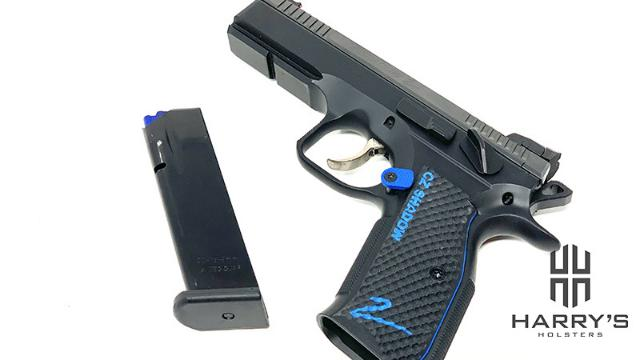handgun: (224, 0, 576, 360)
